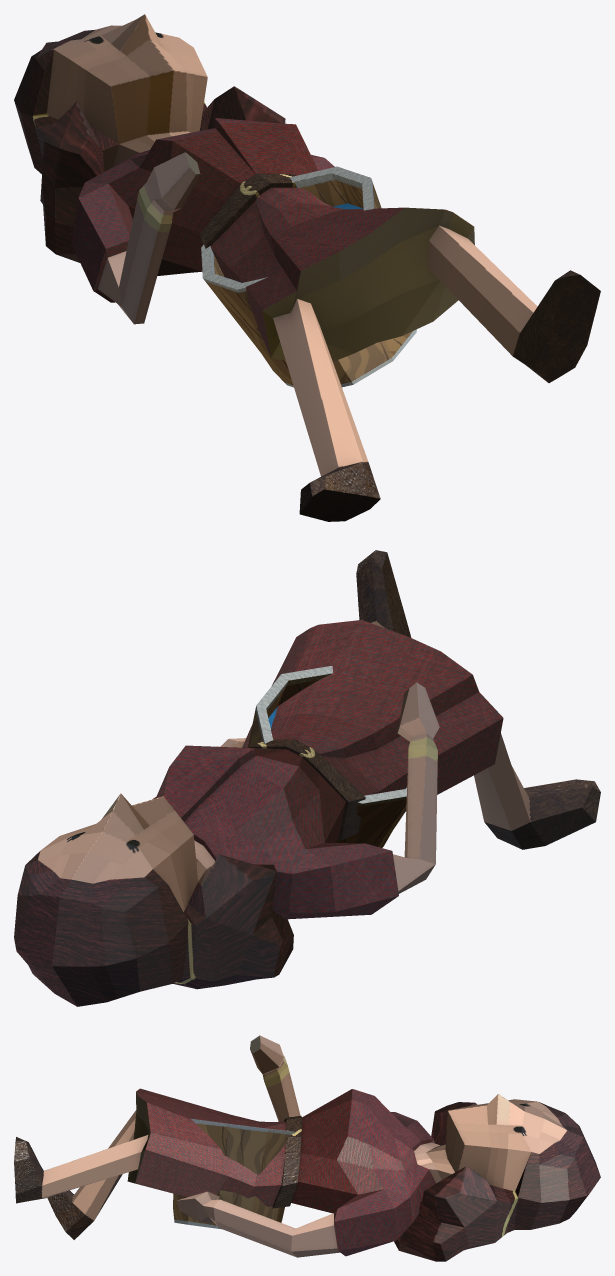
Rendered from Walk_Aldeana_23.obj.
The picture shows the model from 3 angles, top to bottom: view 1: azimuth 30°, elevation 25°; view 2: azimuth 150°, elevation 25°; view 3: azimuth 270°, elevation 25°; orthographic projection. The views are drawn at different scales.
Visible parts, largest first — view 1: Aldeana.001; view 2: Aldeana.001; view 3: Aldeana.001.
Boxes of the visible parts, x1,y1,x2,y2 form: Aldeana.001: (14,14,600,521); Aldeana.001: (14,550,600,1006); Aldeana.001: (14,1035,600,1261).
Bounding box in the file's own units: 0.9411 × 0.8595 × 2.39.
